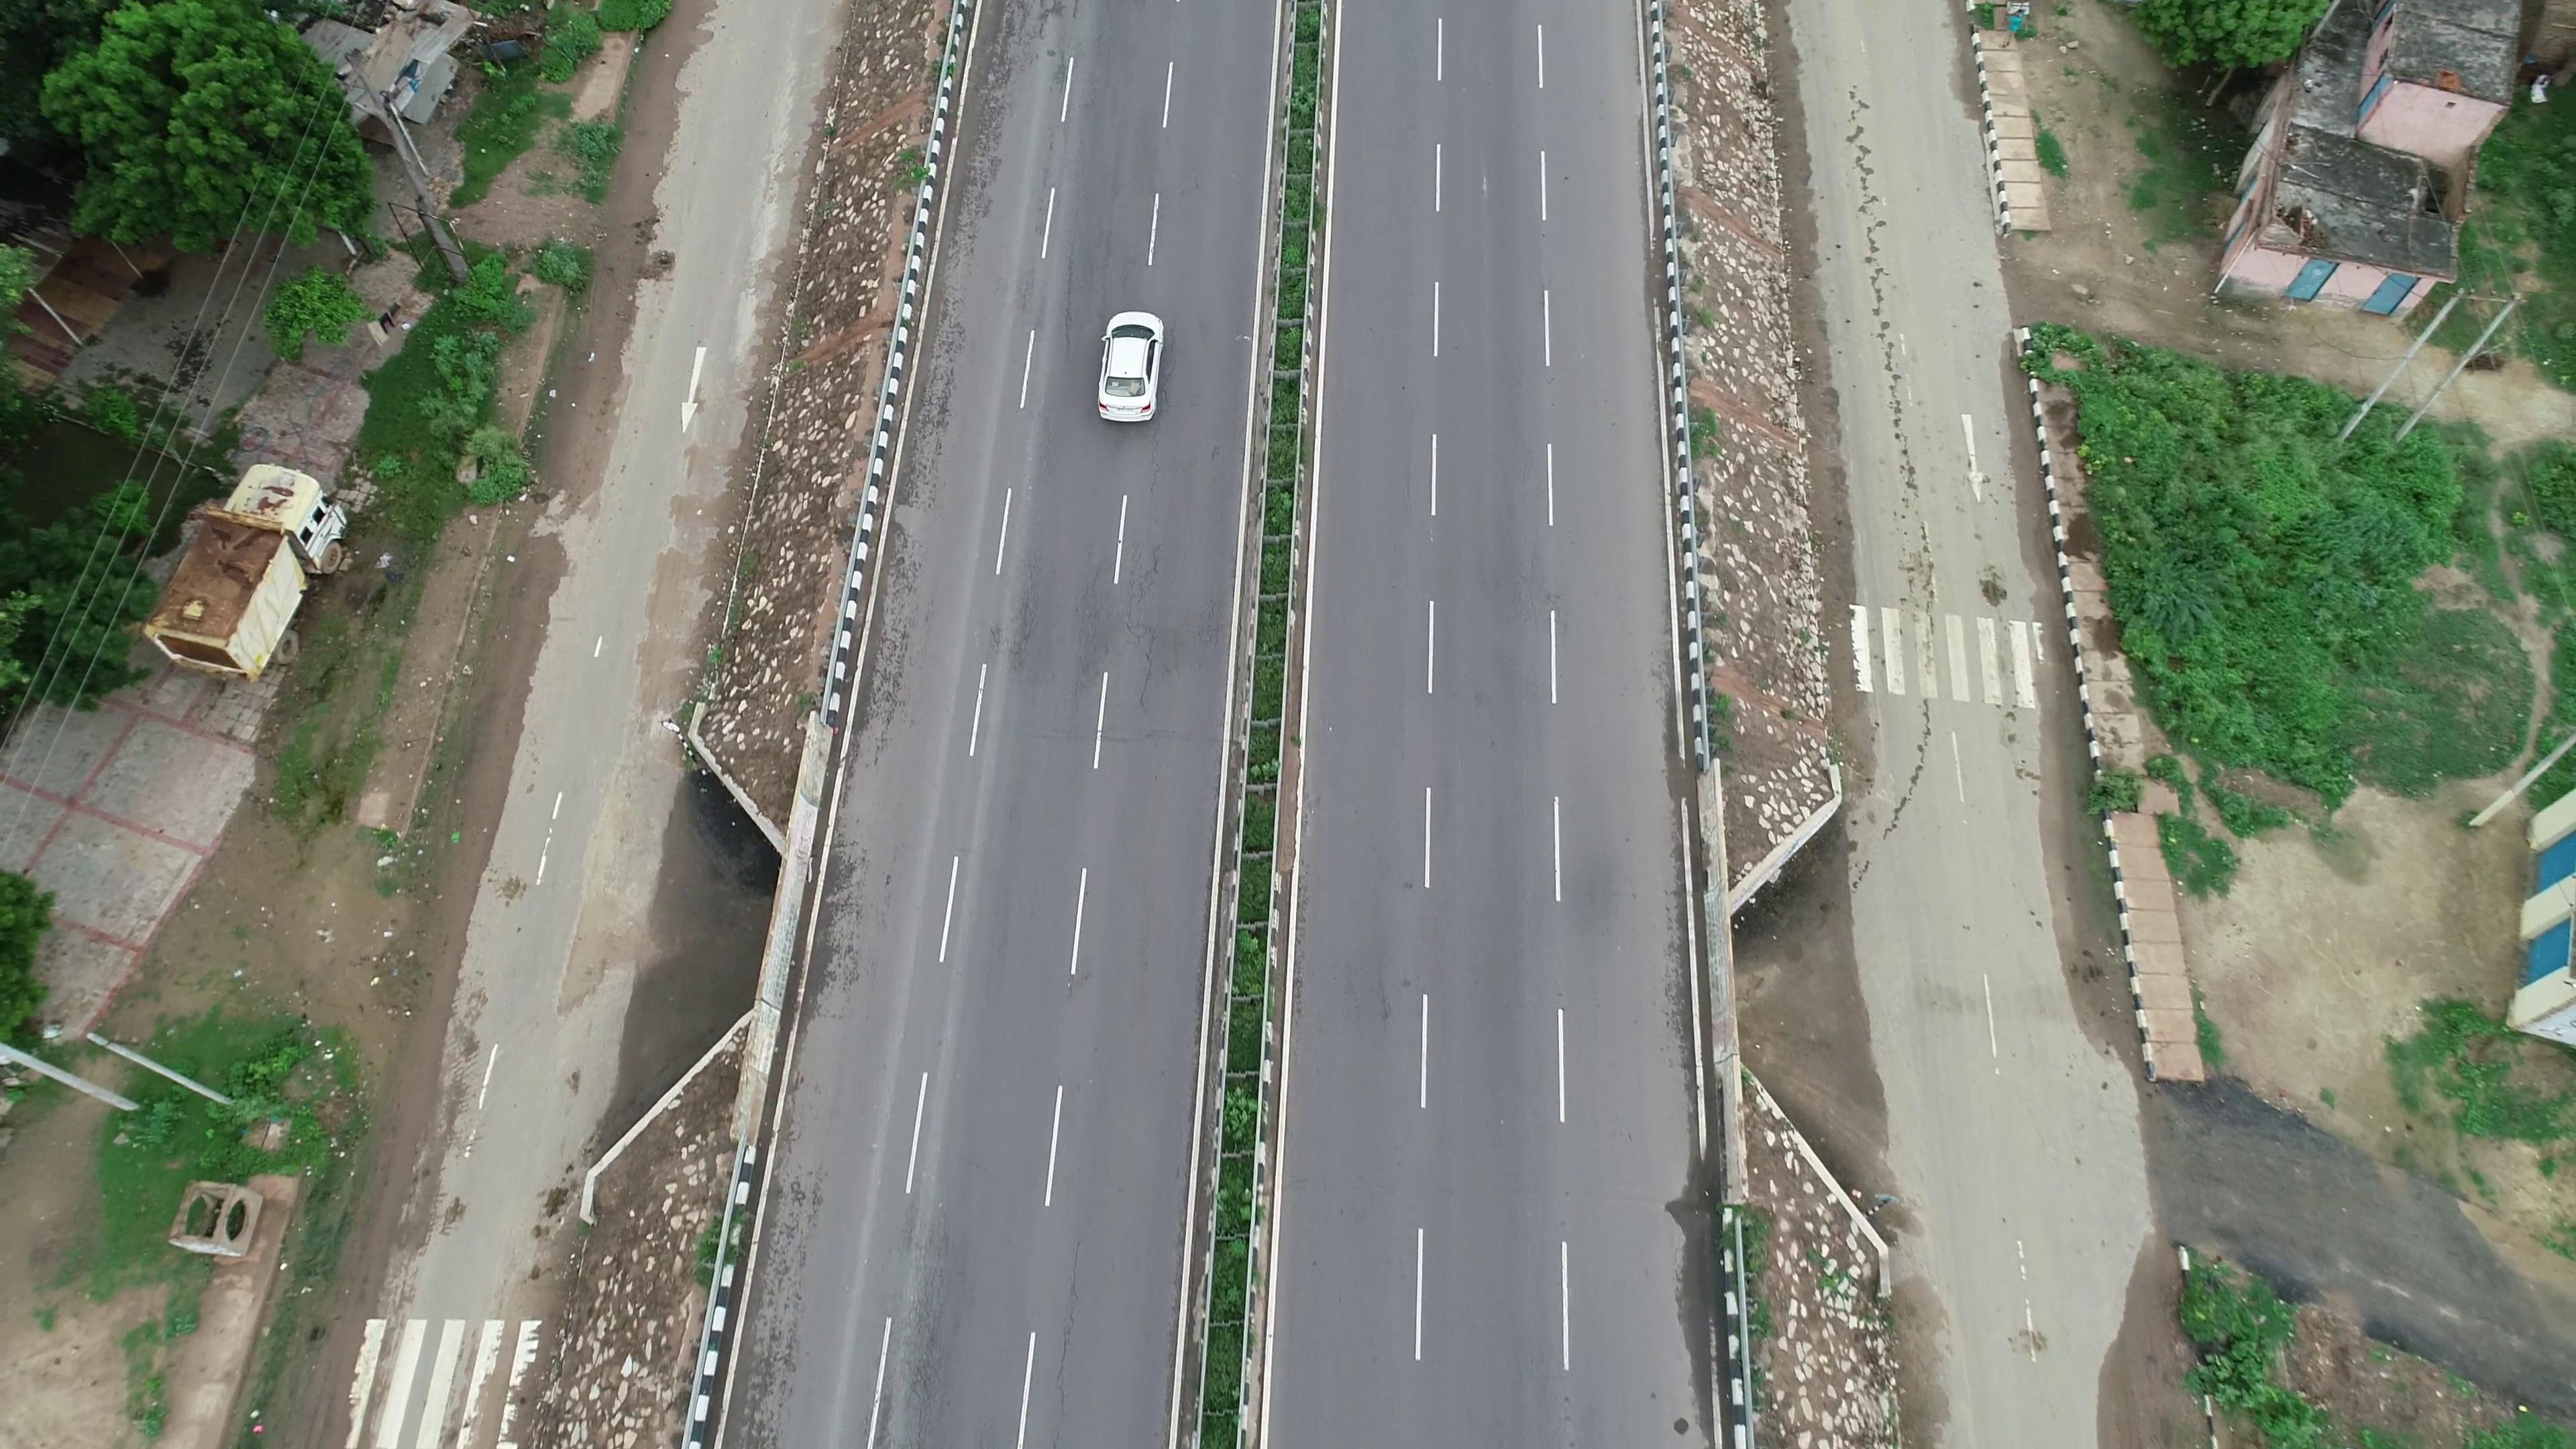Alligator_cracks: (888, 1223, 959, 1424)
Longitudinal_cracks: (1116, 426, 1177, 679)
